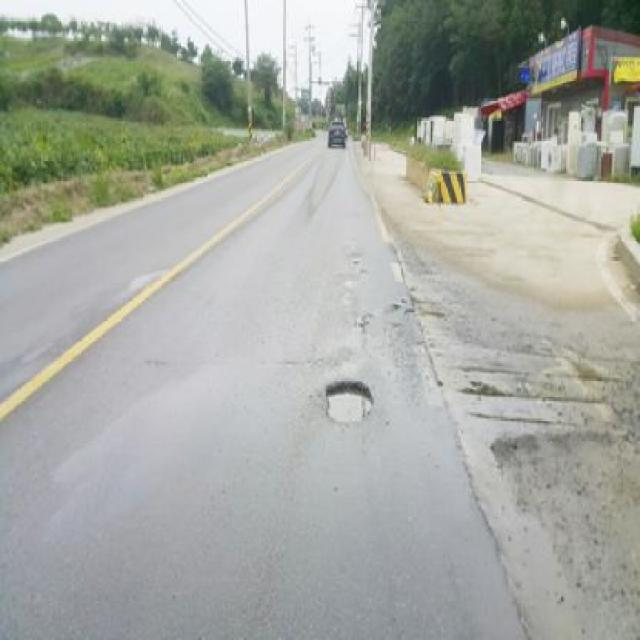Pothole: (323, 372, 379, 426)
